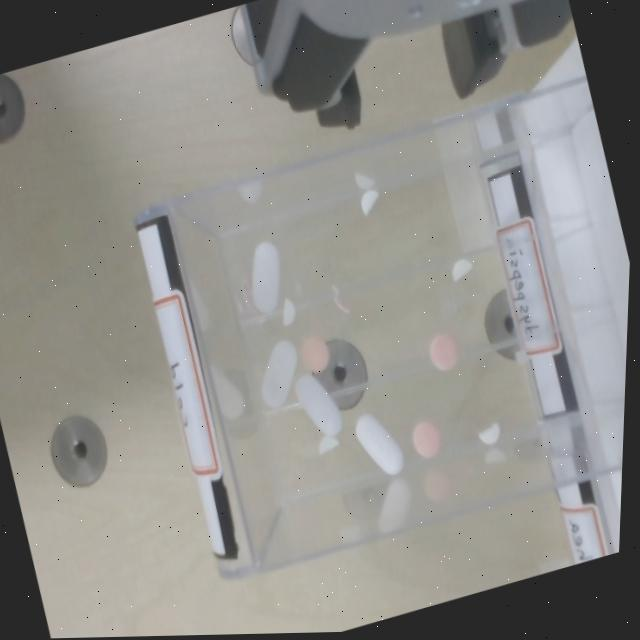amoxicle_tab: (355, 414, 403, 476), (296, 375, 341, 436), (261, 340, 296, 408), (251, 242, 280, 315)
panstar_tab: (411, 420, 441, 458), (429, 334, 457, 371), (301, 337, 329, 373)
sudafed_tab: (360, 189, 378, 215), (451, 259, 471, 282), (478, 424, 499, 445), (318, 435, 337, 455), (281, 299, 295, 326)
